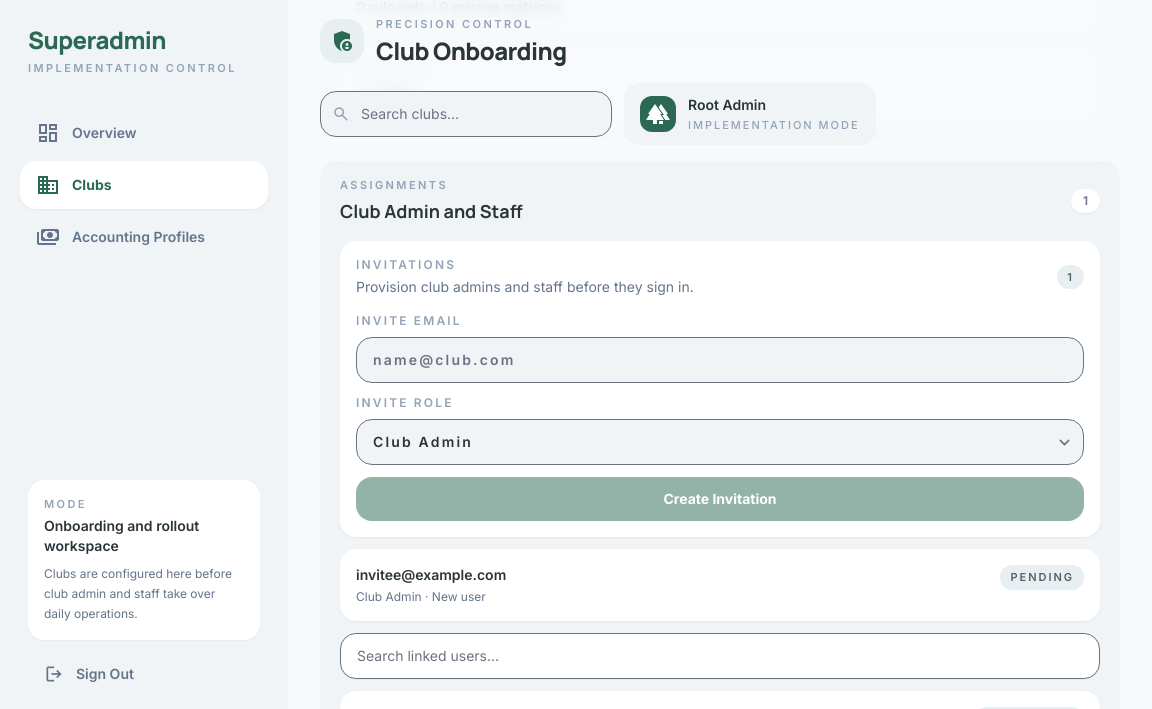
SuperadminClubsPage › creates an invitation and renders the accept token returned by the backend
This screenshot has width=1152, height=709.
(page scrolled)
Type "new.admin@example.com" into the field labelled "Invite Email" at {"x": 720, "y": 360}, box [356,337,1084,383]
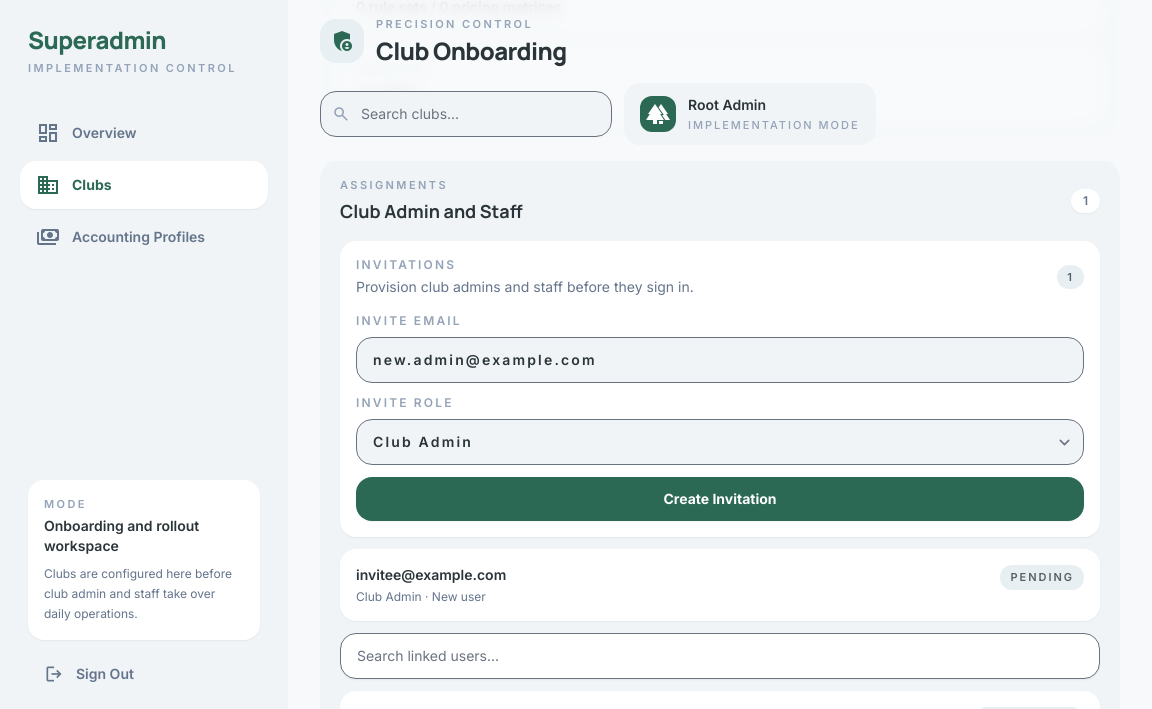
Select "Club Admin" in the dropdown labelled "Invite Role" at {"x": 720, "y": 442}, box [356,419,1084,465]
Click the button "Create Invitation" at {"x": 720, "y": 499}, box [356,477,1084,521]
(page scrolled)
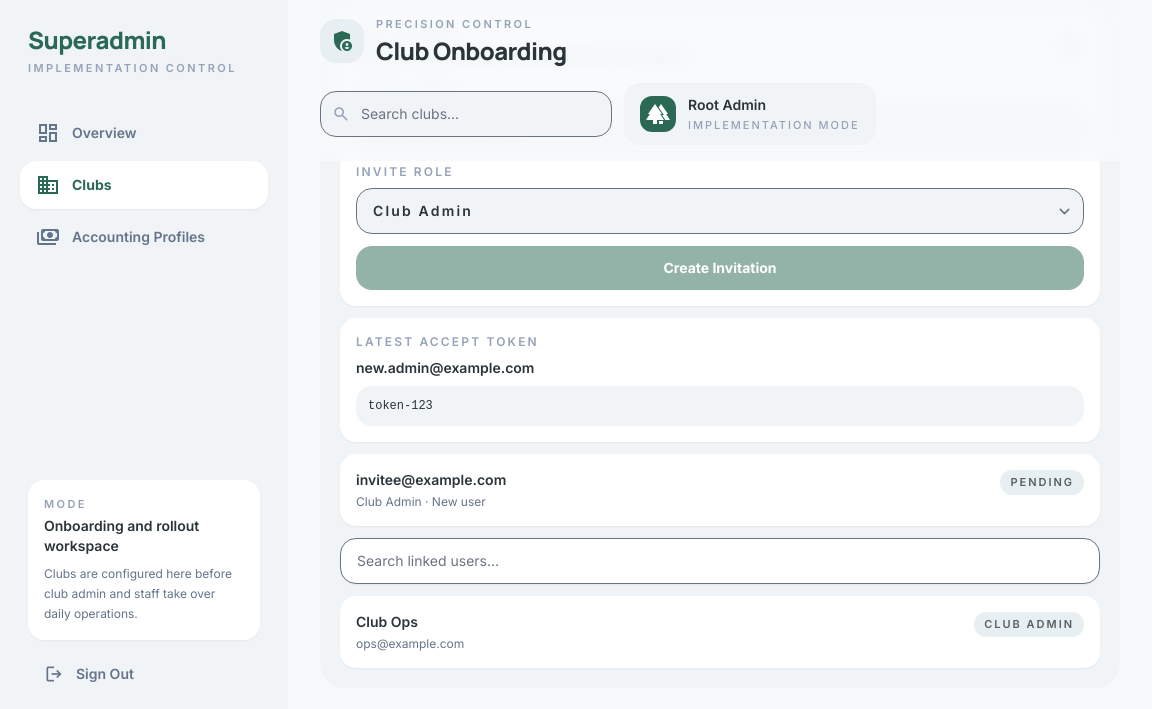
Check: the text "token-123" is shown, box [356,386,1084,426]
